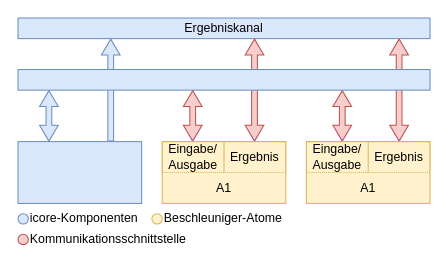
Image size: 448x265. Some labels were removed from this diagram. The box of each missing label's shape, as (x1, y1, x2, y2) in pixels:
Datenkanal: (17, 68, 430, 90)
LSU: (17, 141, 142, 203)
